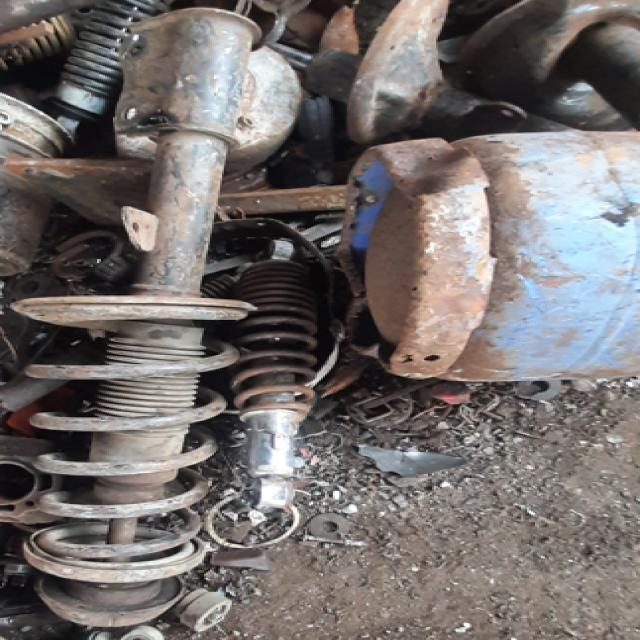shock absorber: (11, 8, 301, 626), (231, 240, 317, 508)
